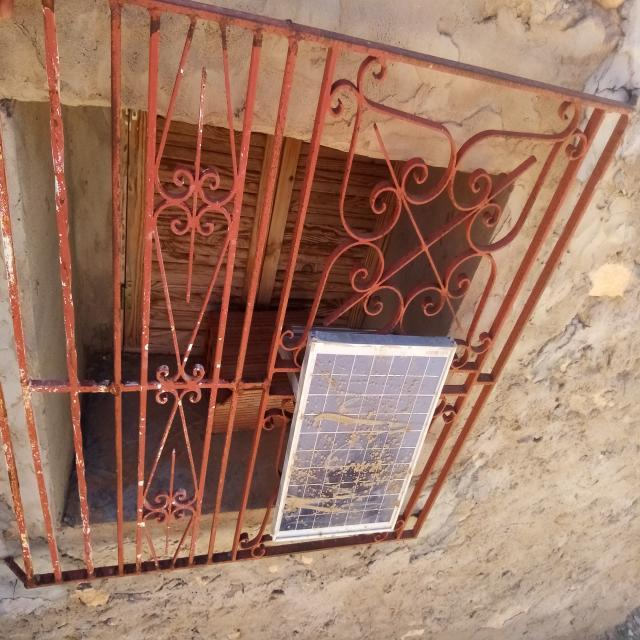faulty: (276, 347, 455, 541)
